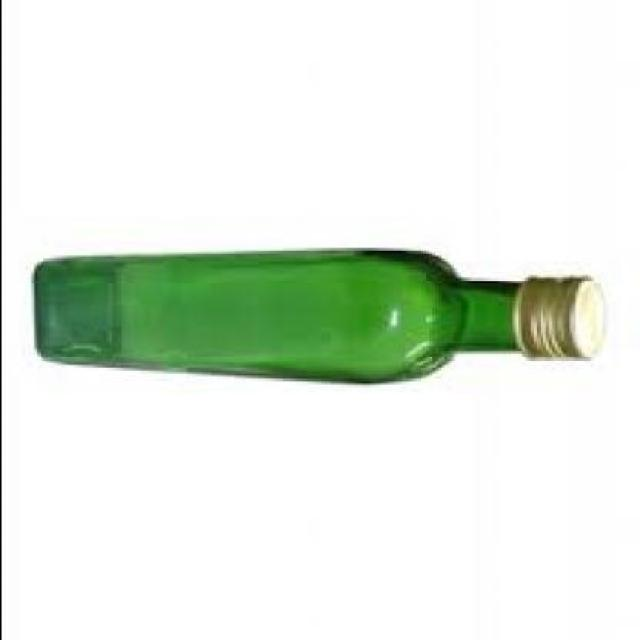GLASS: (36, 248, 529, 381)
METAL: (523, 277, 607, 359)
